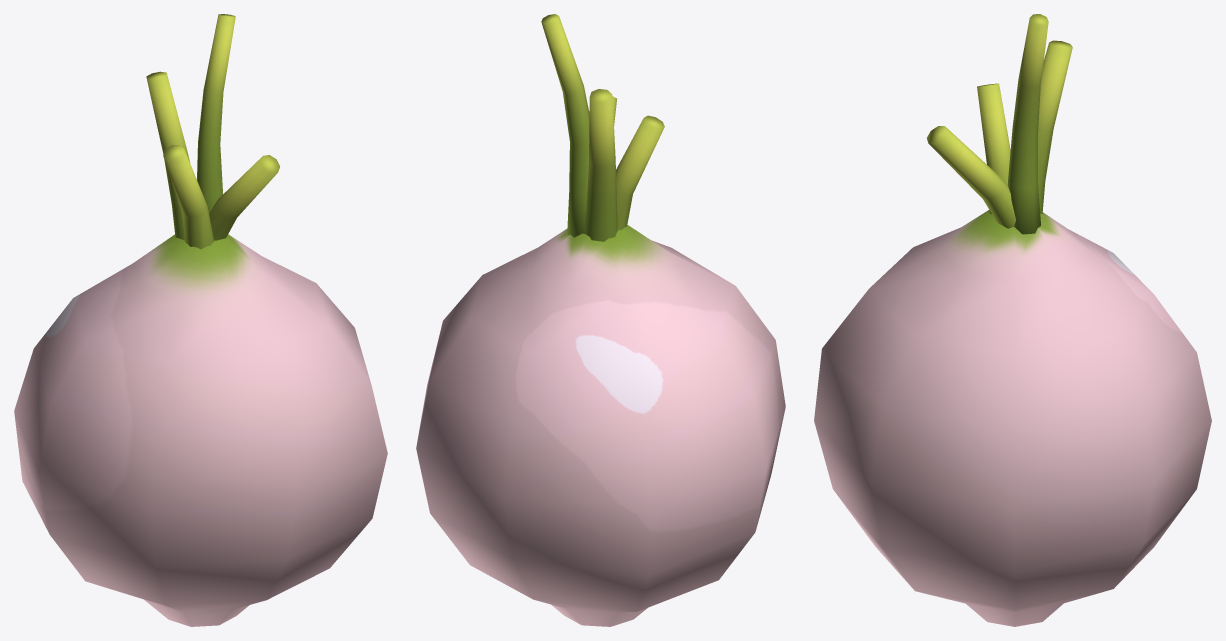
Rendered from White Onion.fbx.
3 renders of one model, left to right at view 1: azimuth 30°, elevation 25°; view 2: azimuth 150°, elevation 25°; view 3: azimuth 270°, elevation 25°, orthographic. The views are drawn at different scales.
Parts seen in each view (by area): view 1: White Onion; view 2: White Onion; view 3: White Onion.
Part boxes in pixels (x1=…): White Onion: x1=14, y1=14, x2=387, y2=626; White Onion: x1=416, y1=14, x2=785, y2=626; White Onion: x1=814, y1=14, x2=1211, y2=626.
Bounding box in the file's own units: 32.89 × 55.04 × 32.41.
